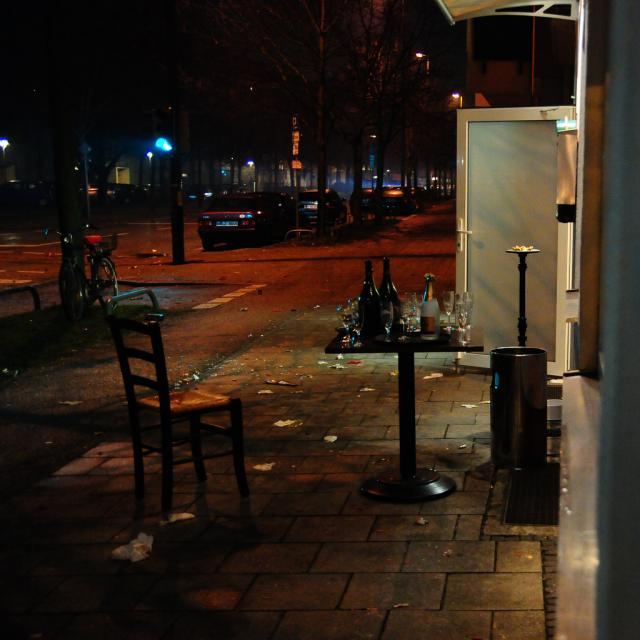Bicycle: (47, 219, 136, 309)
Bottle: (347, 244, 388, 343), (375, 250, 414, 338), (420, 270, 441, 355)
Cup: (426, 270, 464, 340), (458, 285, 475, 344)
Table: (323, 310, 481, 508)
car: (173, 173, 301, 274), (353, 177, 420, 226), (294, 172, 345, 230)
chair: (89, 323, 275, 538)
